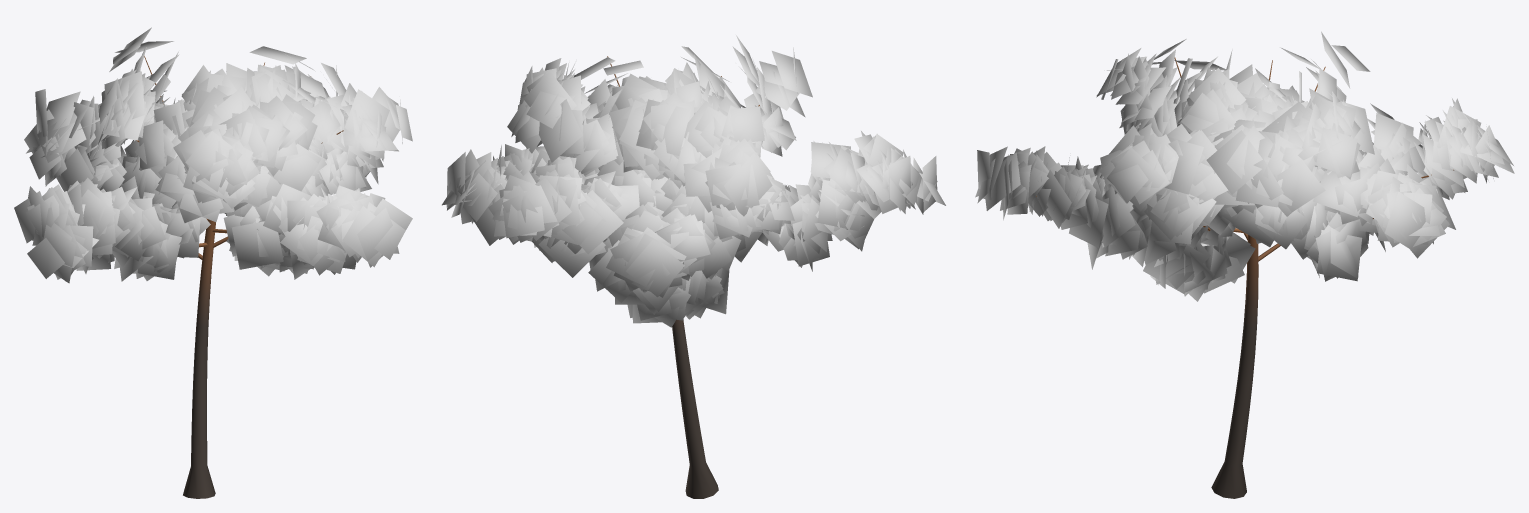
3 views of the same model, side by side, from view 1: azimuth 30°, elevation 25°; view 2: azimuth 150°, elevation 25°; view 3: azimuth 270°, elevation 25° (orthographic). The views are drawn at different scales.
Visible parts, largest first — view 1: crown, trunk; view 2: crown, trunk; view 3: crown, trunk.
Part boxes in pixels (x1,y1,x2,y2): crown: [14, 27, 412, 283]; trunk: [136, 56, 343, 498]; crown: [442, 35, 945, 327]; trunk: [607, 56, 759, 498]; crown: [975, 31, 1514, 301]; trunk: [1036, 57, 1453, 498].
Size of the model in its own units: 17.67 by 19.02 by 20.38.
